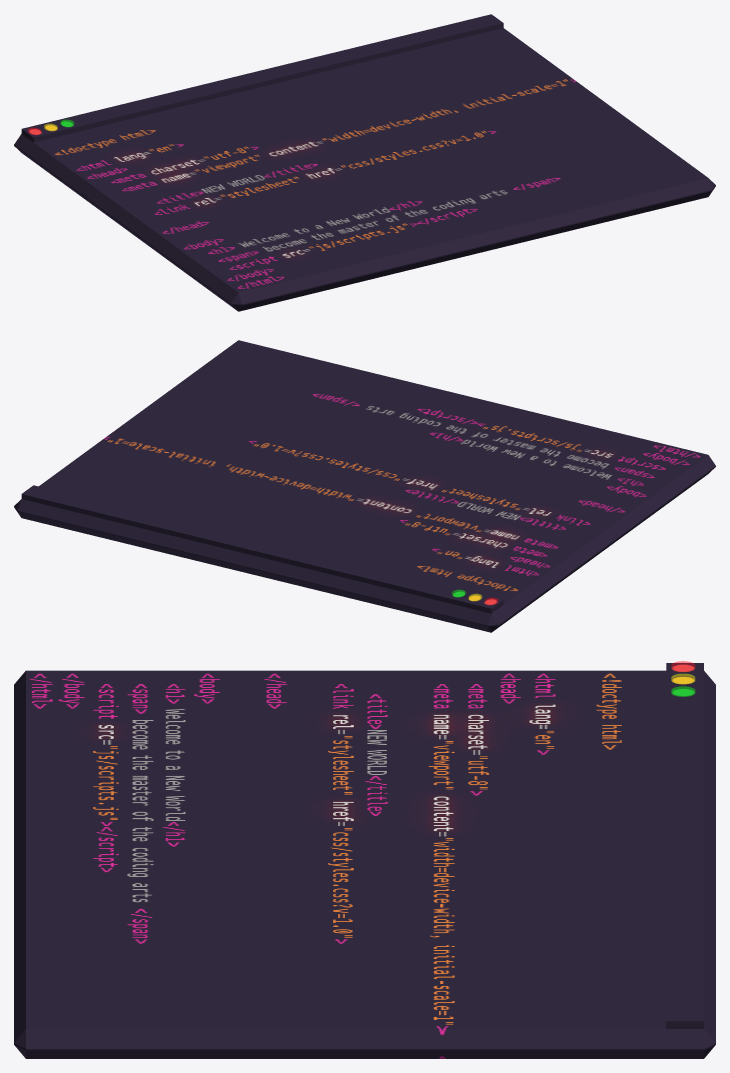
File: codigomodelo.gltf
3 views of the same model, one above another, from view 1: azimuth 30°, elevation 25°; view 2: azimuth 150°, elevation 25°; view 3: azimuth 270°, elevation 25° (orthographic). The views are drawn at different scales.
Parts seen in each view (by area): view 1: Plane; view 2: Plane; view 3: Plane.
Boxes of the visible parts, x1,y1,x2,y2 form: Plane: (14, 14, 715, 311); Plane: (14, 340, 715, 632); Plane: (14, 663, 715, 1058).
Bounding box in the file's own units: 5.94 × 0.2988 × 4.76.
Materials: 4 (1 with a texture image).
